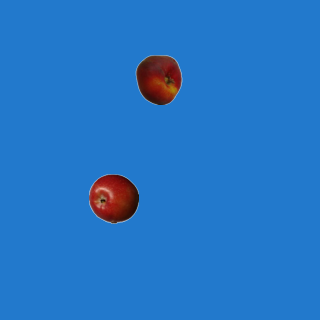Apple Braeburn: (88, 173, 138, 223)
Nectarine Flat: (133, 54, 183, 104)
